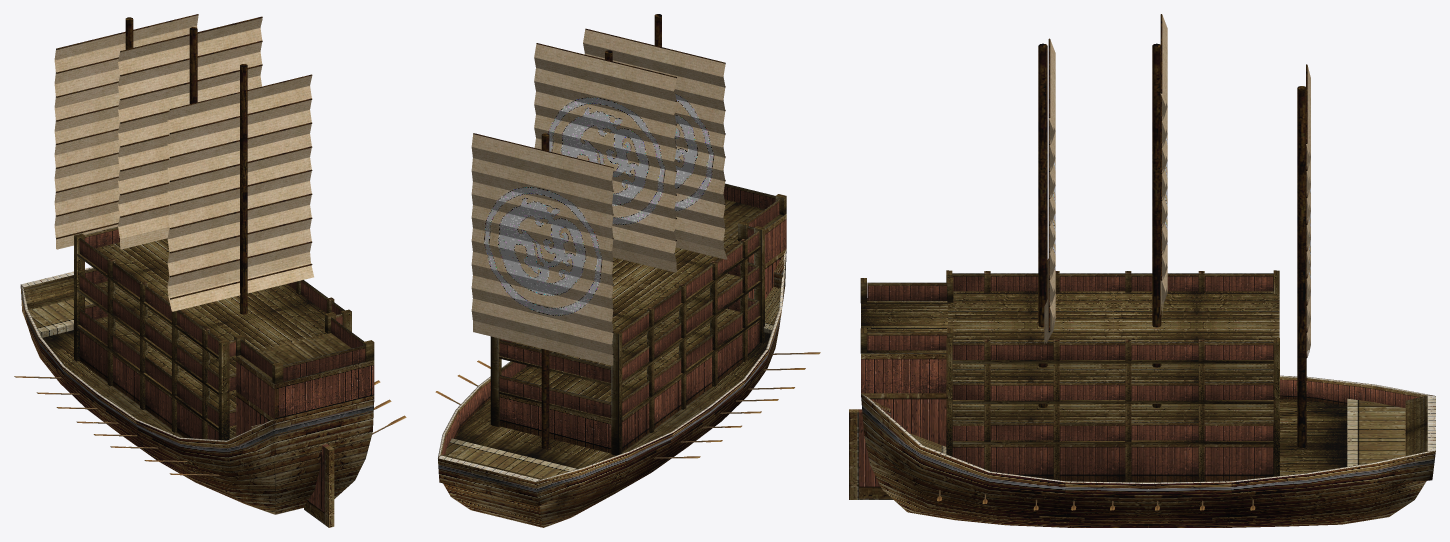
Rendered from han_towership.glb.
3 views of the same model, side by side, from view 1: azimuth 30°, elevation 25°; view 2: azimuth 150°, elevation 25°; view 3: azimuth 270°, elevation 25° (orthographic). The views are drawn at different scales.
Visible parts, largest first — view 1: han_towership_part0, han_towership_part1; view 2: han_towership_part0, han_towership_part1; view 3: han_towership_part0, han_towership_part1.
Part boxes in pixels (bbox=[...]): han_towership_part0: bbox=[20, 14, 374, 527]; han_towership_part1: bbox=[54, 15, 313, 311]; han_towership_part0: bbox=[438, 14, 786, 527]; han_towership_part1: bbox=[471, 29, 727, 365]; han_towership_part0: bbox=[849, 14, 1435, 527]; han_towership_part1: bbox=[1044, 15, 1310, 355].
Size of the model in its own units: 3.88 by 5.56 by 6.5.
3 materials, 3 textured.
